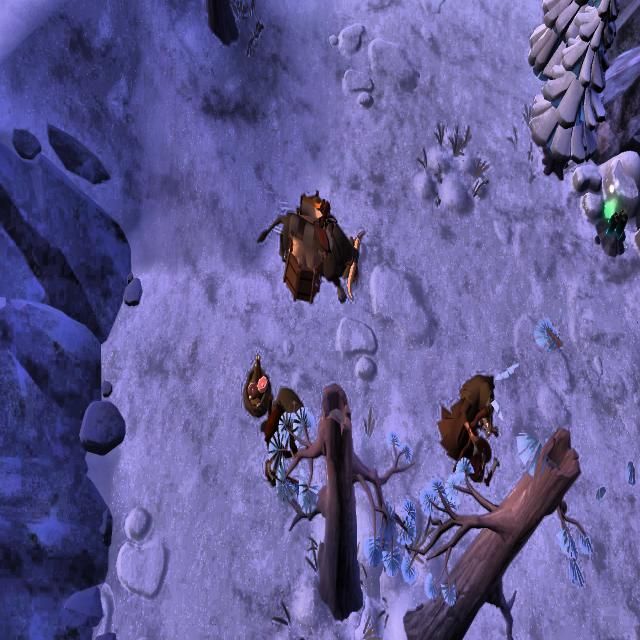enemy_factionKeeper: (442, 358, 497, 475)
ore_t4: (606, 209, 626, 243)
